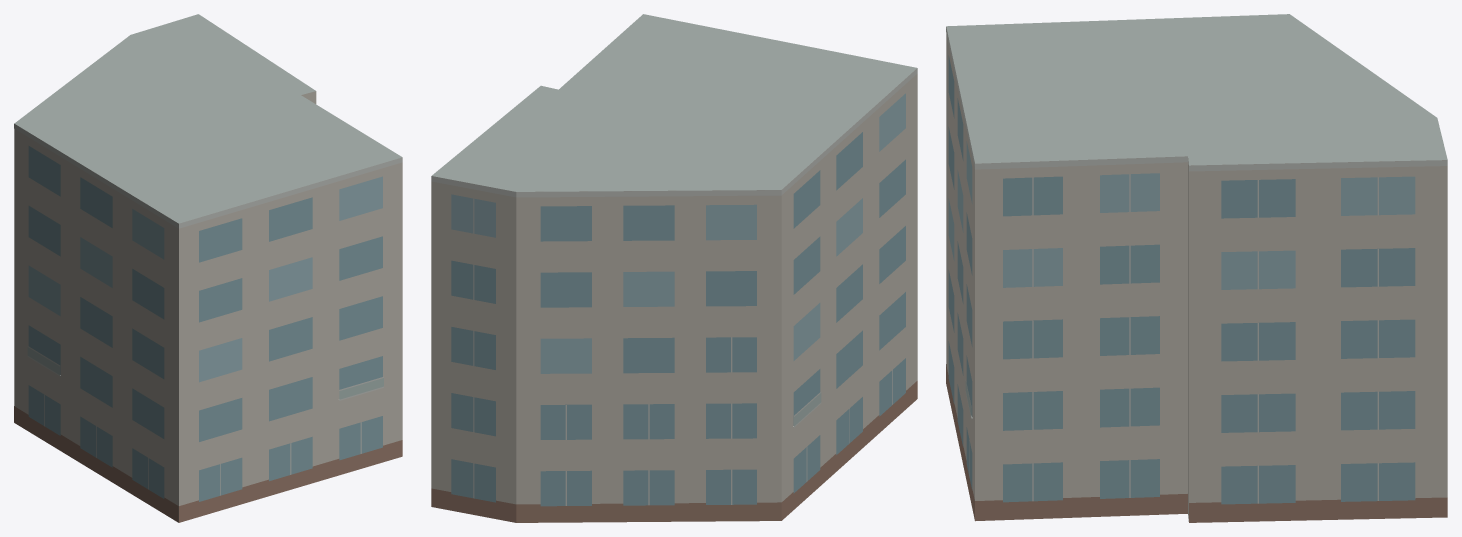
File: survey-upis-32667201.glb
3 renders of one model, left to right at view 1: azimuth 30°, elevation 25°; view 2: azimuth 150°, elevation 25°; view 3: azimuth 270°, elevation 25°, orthographic. The views are drawn at different scales.
Parts seen in each view (by area): view 1: survey-upis-32667201.tmp; view 2: survey-upis-32667201.tmp; view 3: survey-upis-32667201.tmp.
Boxes of the visible parts, box(x1,y1,x2,y2) form: survey-upis-32667201.tmp: box(14, 14, 402, 522); survey-upis-32667201.tmp: box(431, 14, 917, 522); survey-upis-32667201.tmp: box(946, 14, 1447, 522).
Size of the model in its own units: 13.24 by 14.55 by 18.52.
